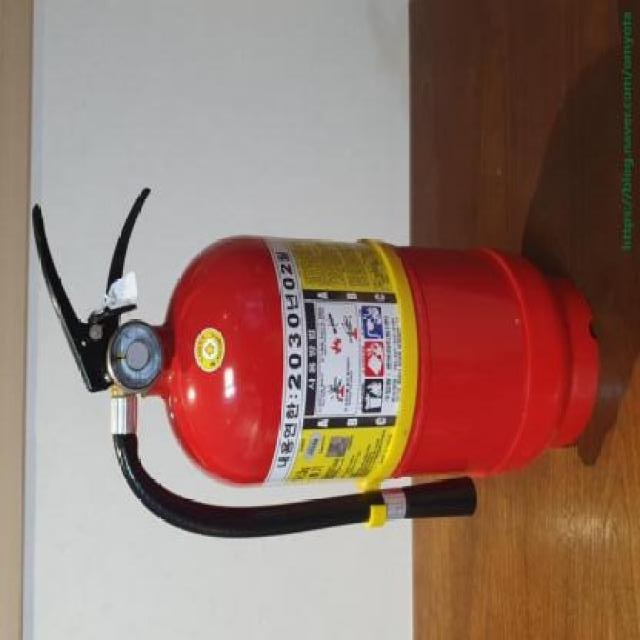fire extinguisher: (33, 187, 599, 538)
